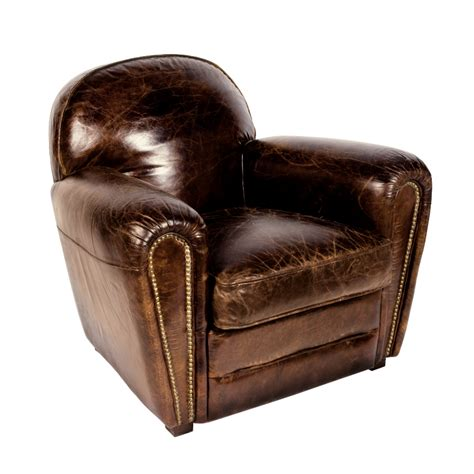cuero: (47, 52, 434, 437)
